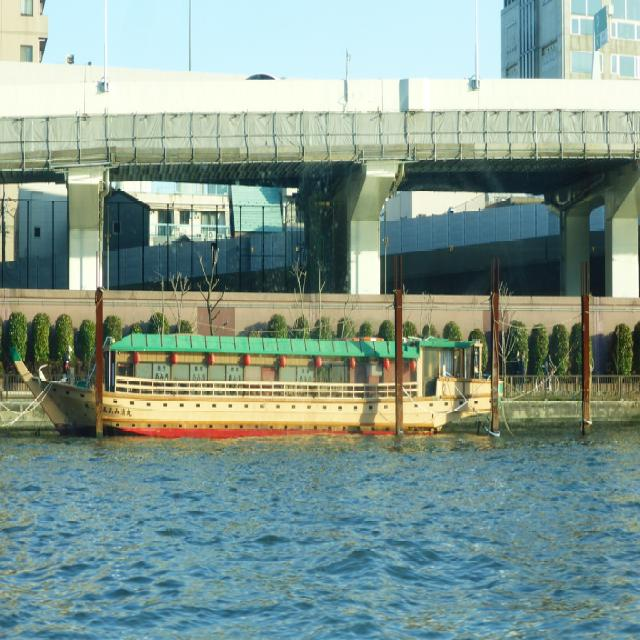Boat: (60, 280, 483, 426)
